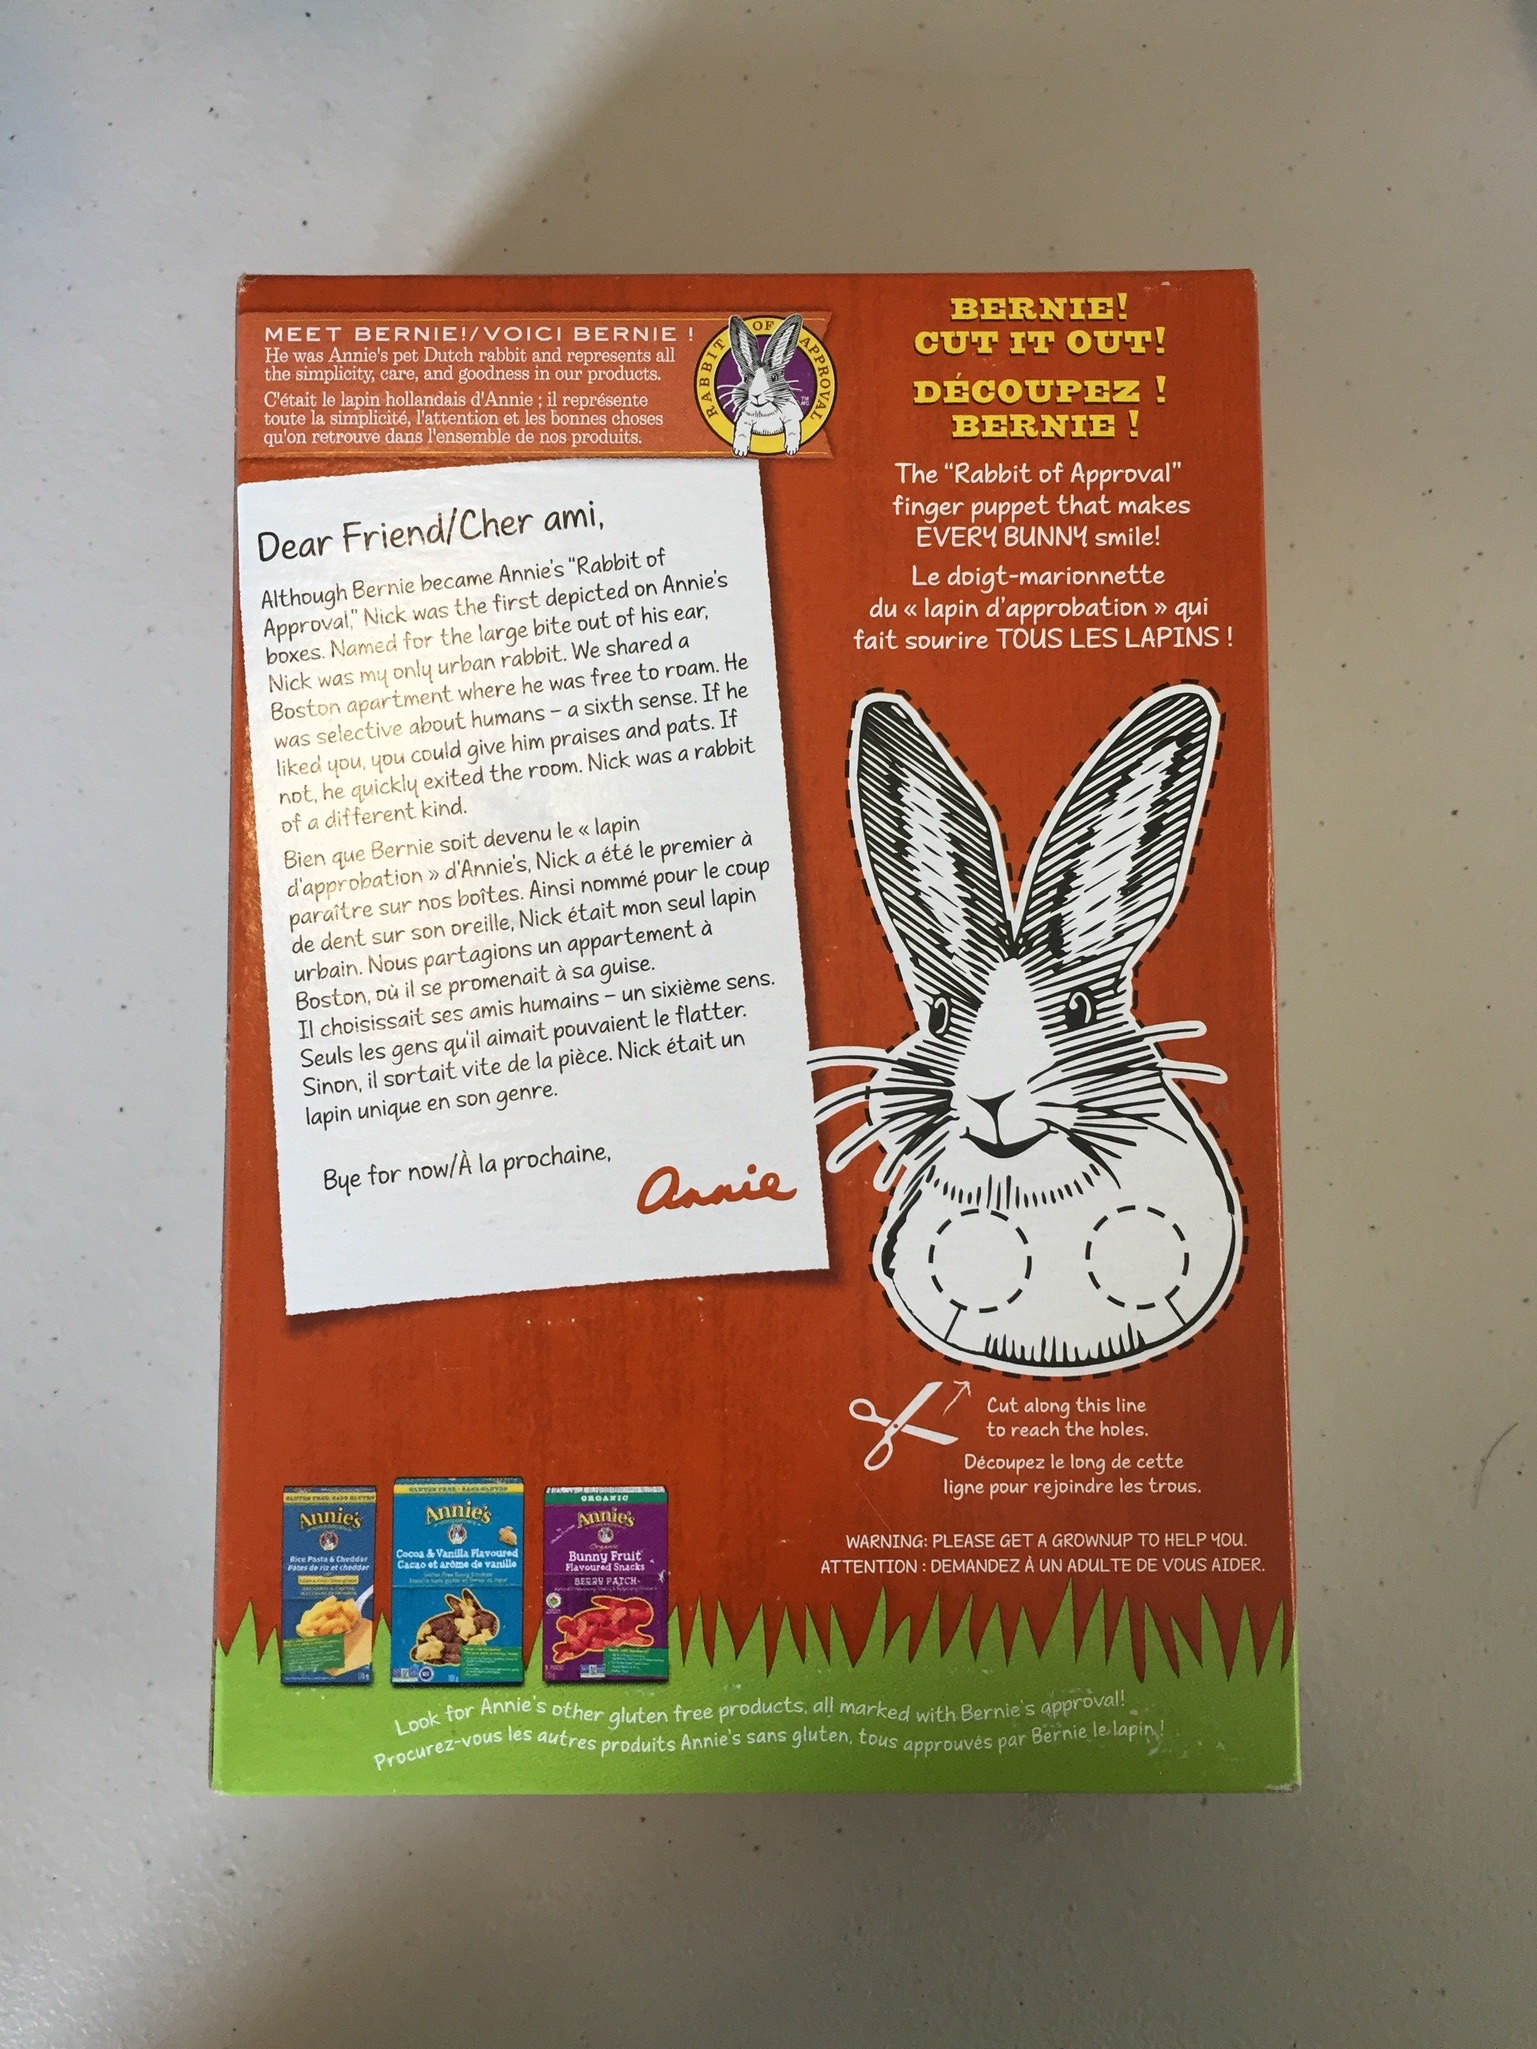annies_snickerdoodles_cinnamon_sugar: (249, 287, 1275, 1783)
